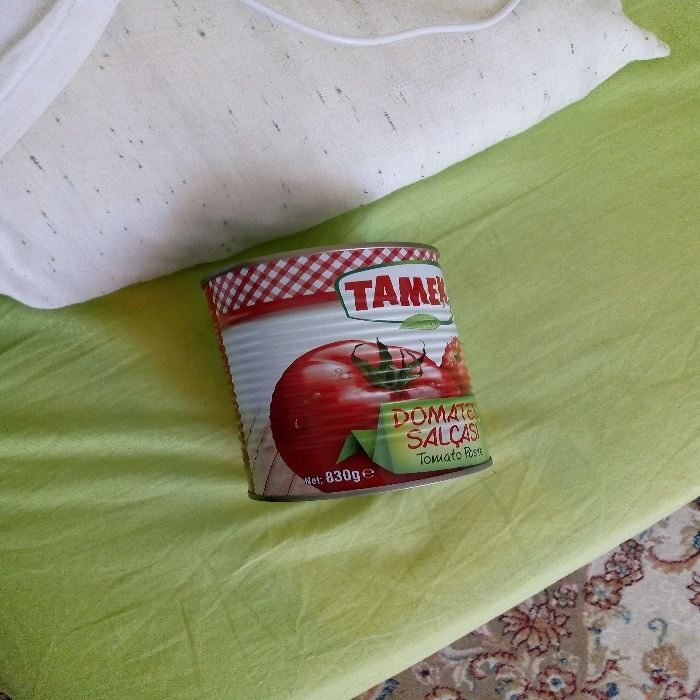salca: (184, 233, 521, 516)
